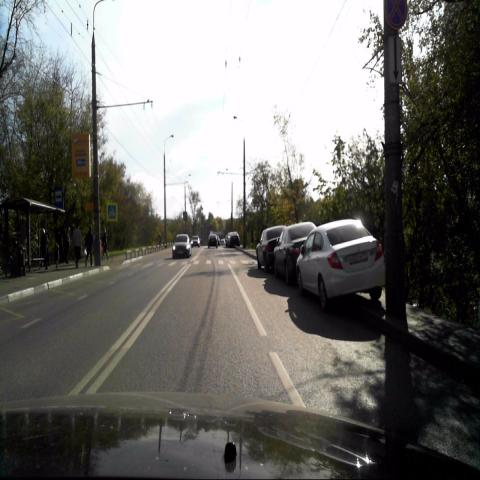8_2_3: (390, 32, 402, 85)
